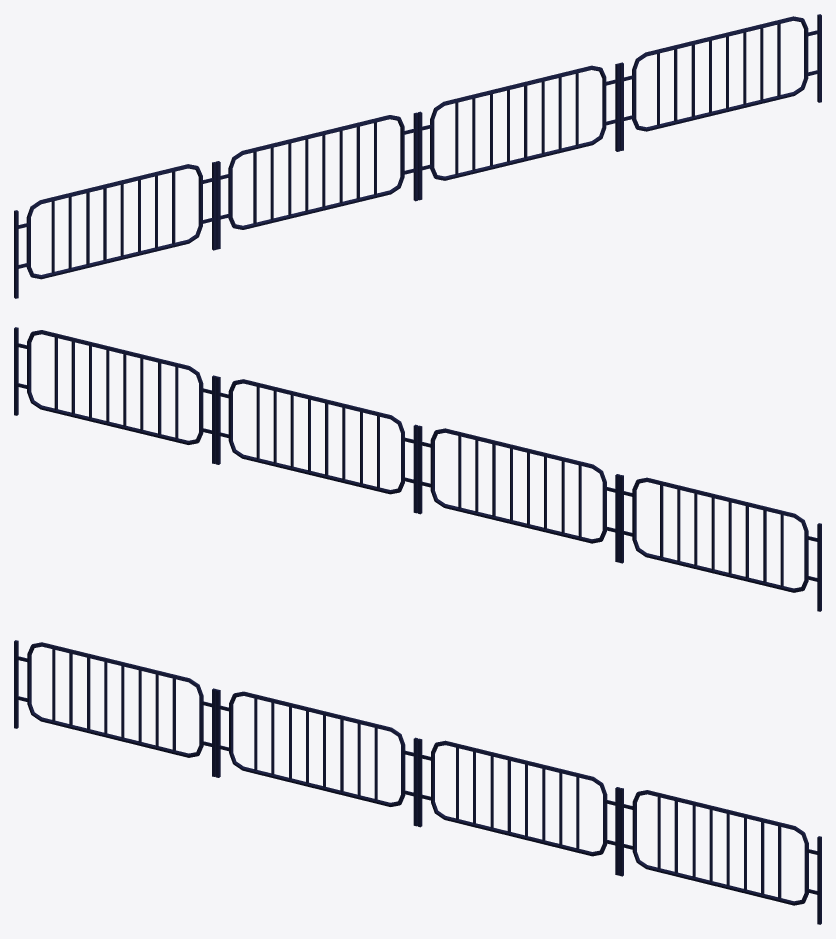
The model's file is SM_fence_row.fbx.
3 views of the same model, one above another, from view 1: azimuth 30°, elevation 25°; view 2: azimuth 150°, elevation 25°; view 3: azimuth 330°, elevation 25° (orthographic).
Visible parts, largest first — view 1: Line020; view 2: Line020; view 3: Line020.
Part boxes in pixels (<box>): Line020: <box>14,14,821,298</box>; Line020: <box>14,327,821,611</box>; Line020: <box>14,640,821,924</box>.
Size of the model in its own units: 370 by 39.82 by 1.82.
